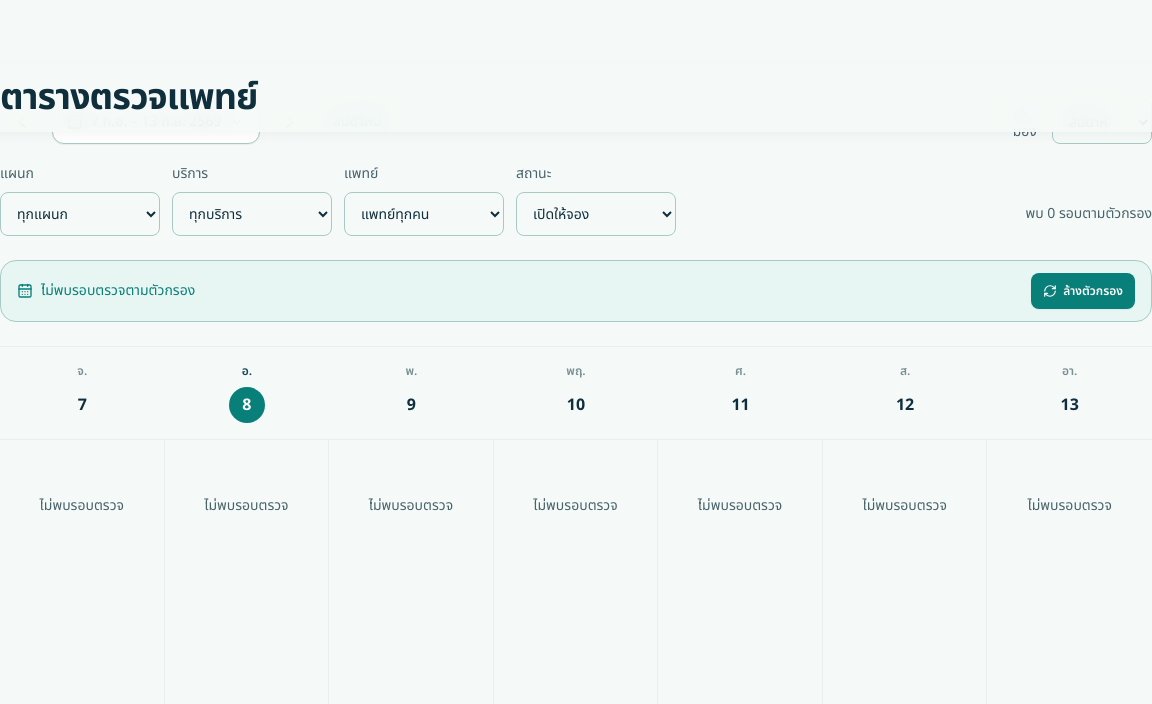
ScheduleWorkspace Service Filter › keeps booking visible for a full slot until the slot is closed
The width and height of the screenshot is (1152, 704).
Select "ทุกสถานะ" in the dropdown named "กรองสถานะ" at (596,214), box [516,192,676,236]
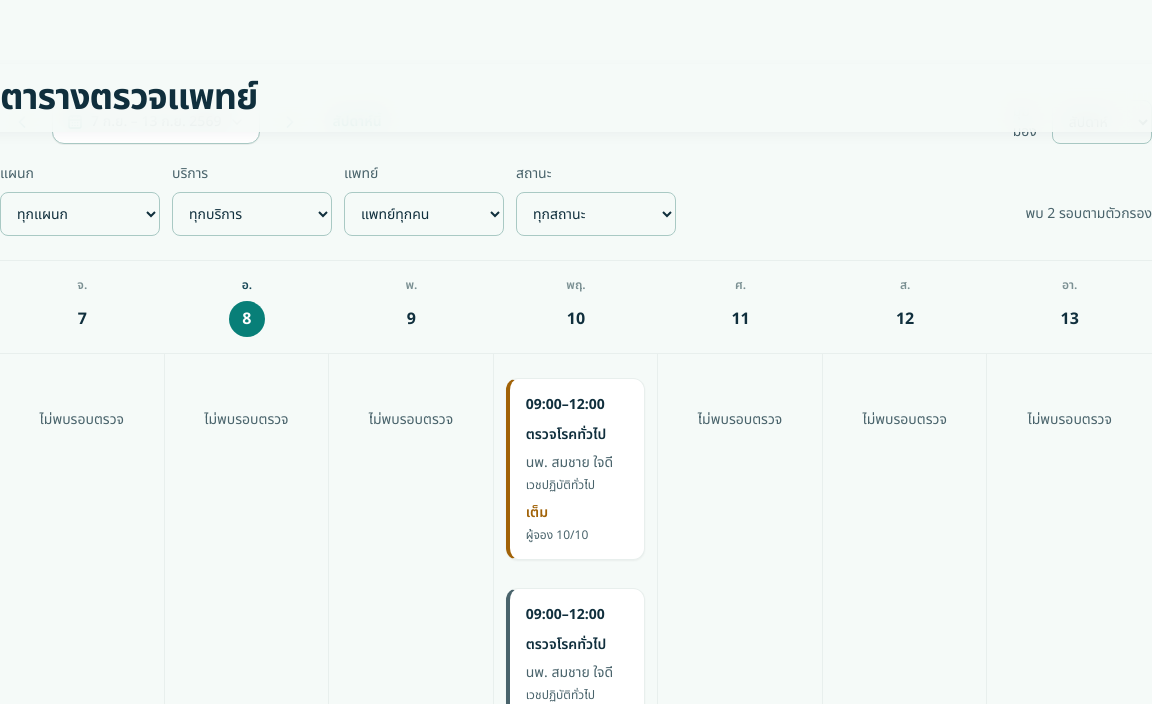
Double-click the button titled "เปิดตารางตรวจวันที่ 10 ก.ย.".
double_click(576, 307)  # box [494,261,658,353]
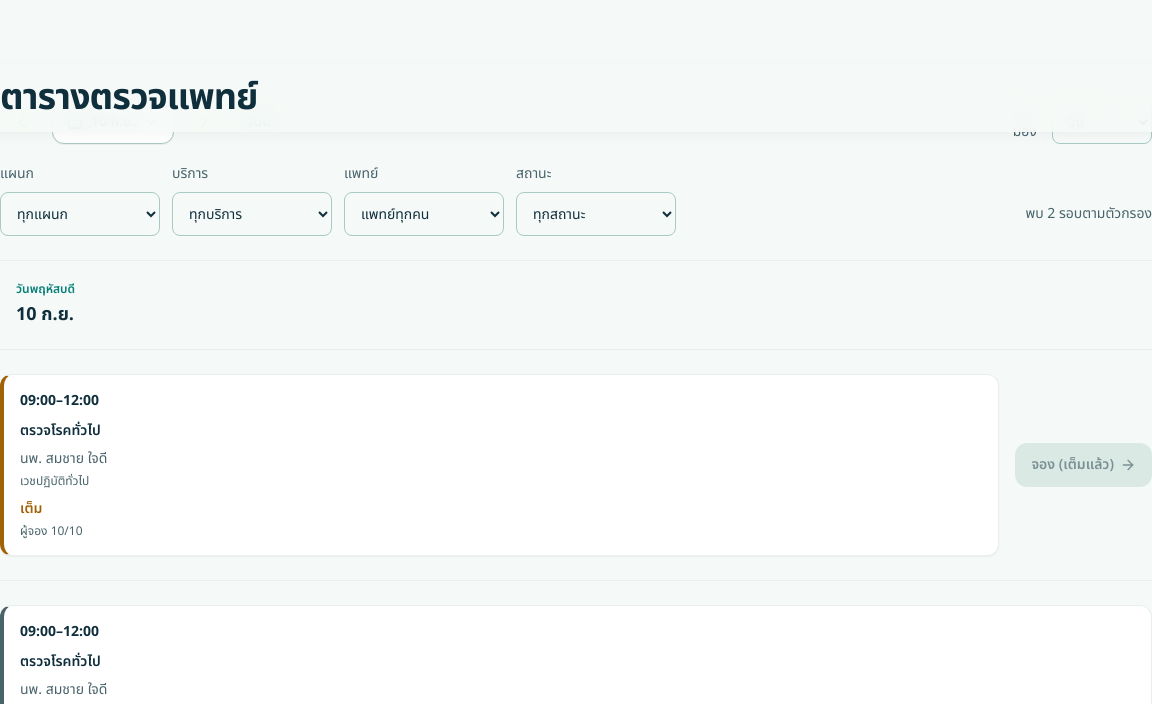
Now the button with aria-label "จองไม่ได้ รอบตรวจเต็มแล้ว" is disabled, box [1015,443,1151,487]
